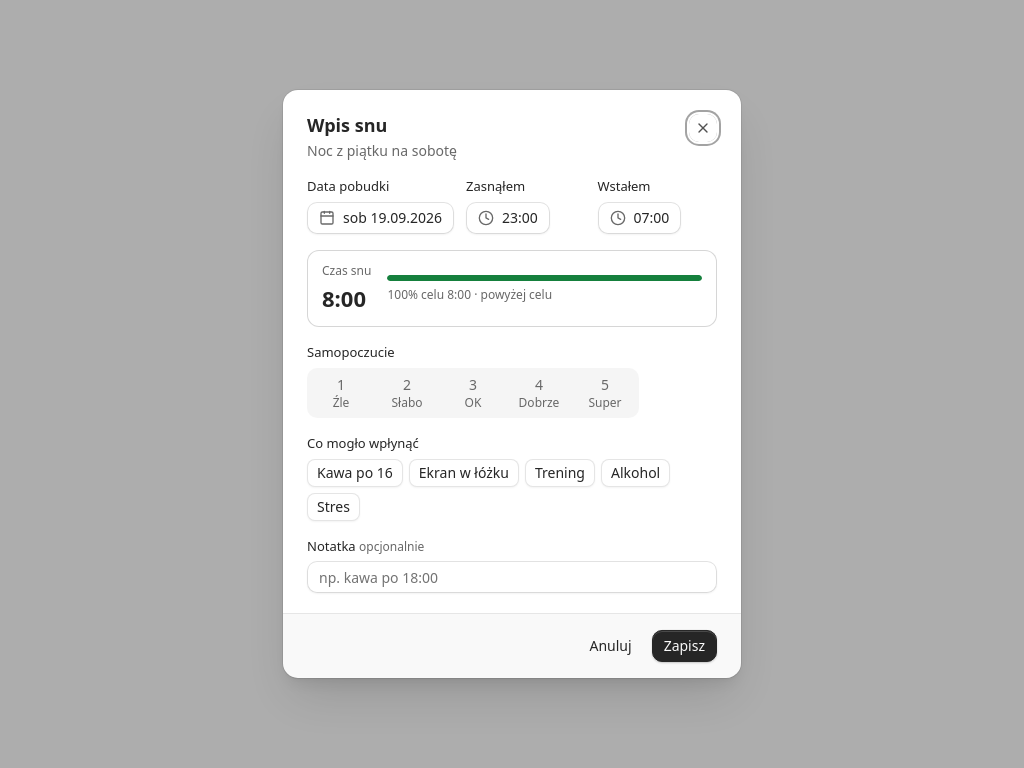
Scenario: SleepDialog › dni starsze niż 60 dni (poza wczytanym snem) są zablokowane
The image size is (1024, 768).
Click the button with aria-label "Data pobudki" at (380, 218), box [307,202,454,234]
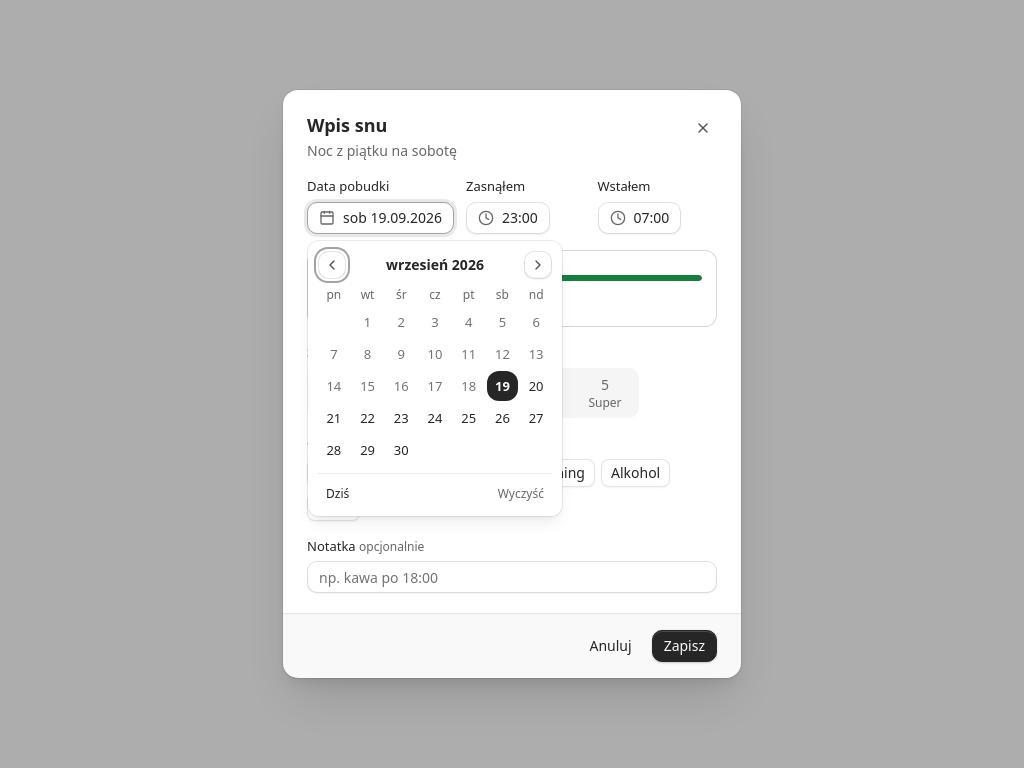
Expected: the text "wrzesień 2026" is shown, [386,255,484,275]
Expected: the button "18" is disabled, [453,371,484,401]
Expected: the button "19" is enabled, [487,371,518,401]
